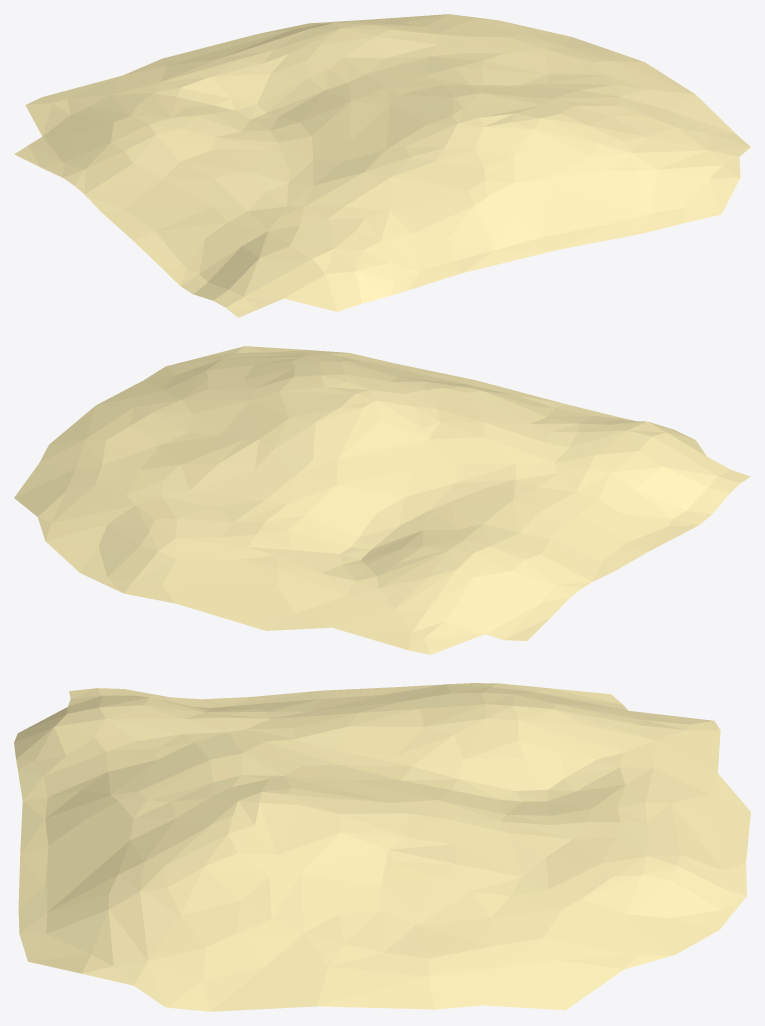
File: Hill_s_03.fbx
The picture shows the model from 3 angles, top to bottom: view 1: azimuth 30°, elevation 25°; view 2: azimuth 150°, elevation 25°; view 3: azimuth 270°, elevation 25°; orthographic projection. The views are drawn at different scales.
Visible parts, largest first — view 1: Hill_s_03; view 2: Hill_s_03; view 3: Hill_s_03.
Part boxes in pixels (<box>): Hill_s_03: <box>14,14,750,317</box>; Hill_s_03: <box>14,346,750,654</box>; Hill_s_03: <box>14,683,750,1011</box>.
Size of the model in its own units: 4889 by 597 by 4609.
